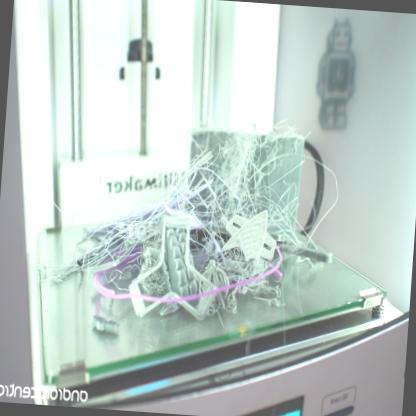fail: (204, 130, 301, 221), (80, 200, 165, 272), (215, 259, 267, 309)
